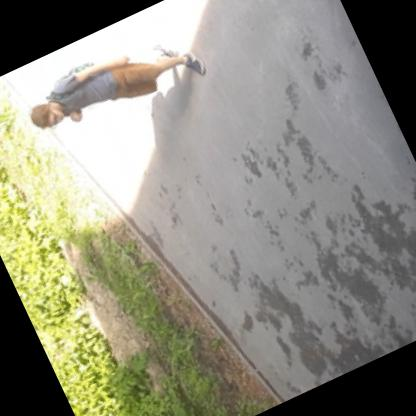Human Body: (13, 11, 220, 163)
